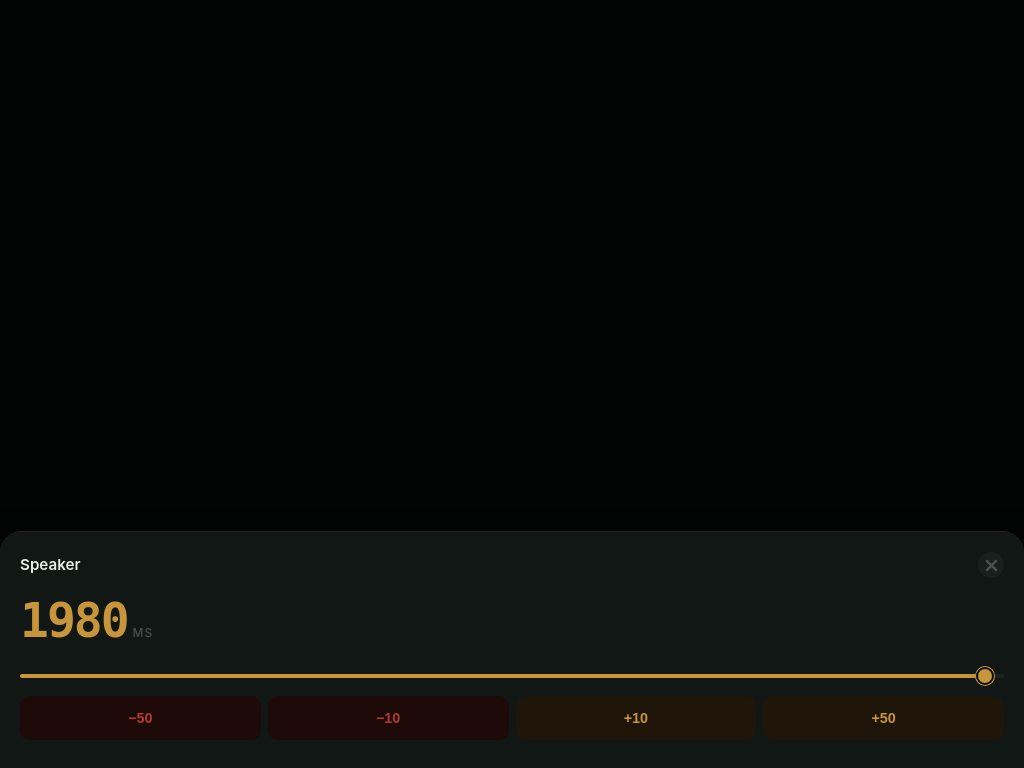
DelaySheet › clamps value to 2000 when result would exceed maximum
Click the button "+50" at (884, 718), box x1=763 y1=696 x2=1004 y2=740
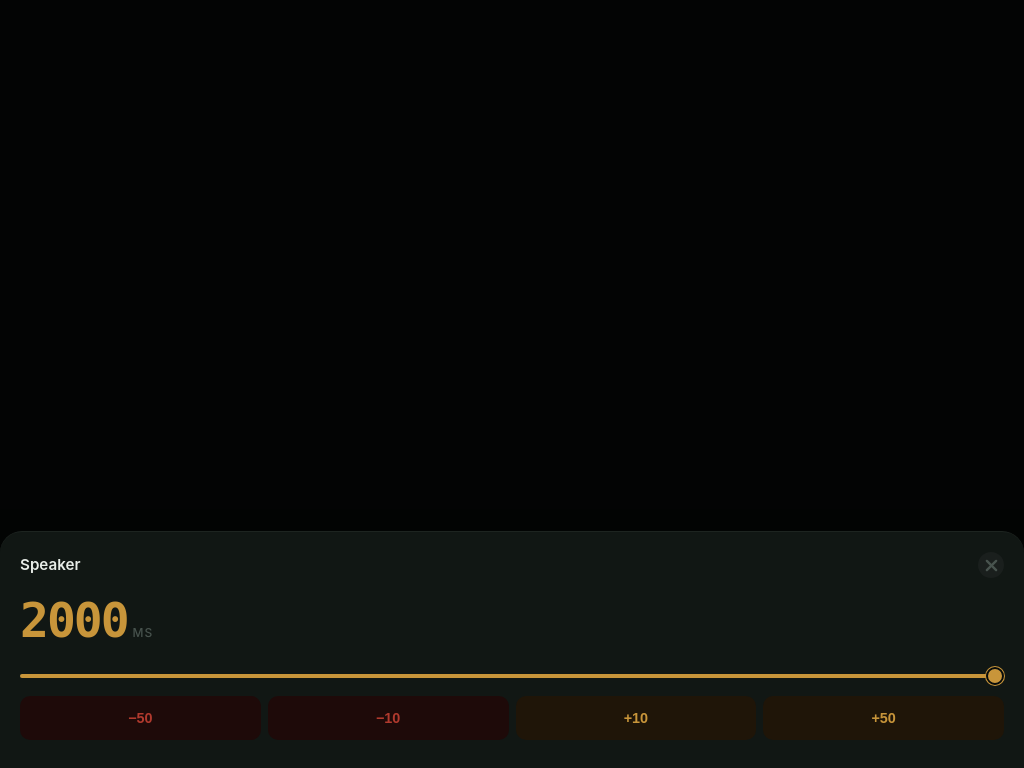
Expected: the text "2000" is shown, x1=20 y1=596 x2=128 y2=644
